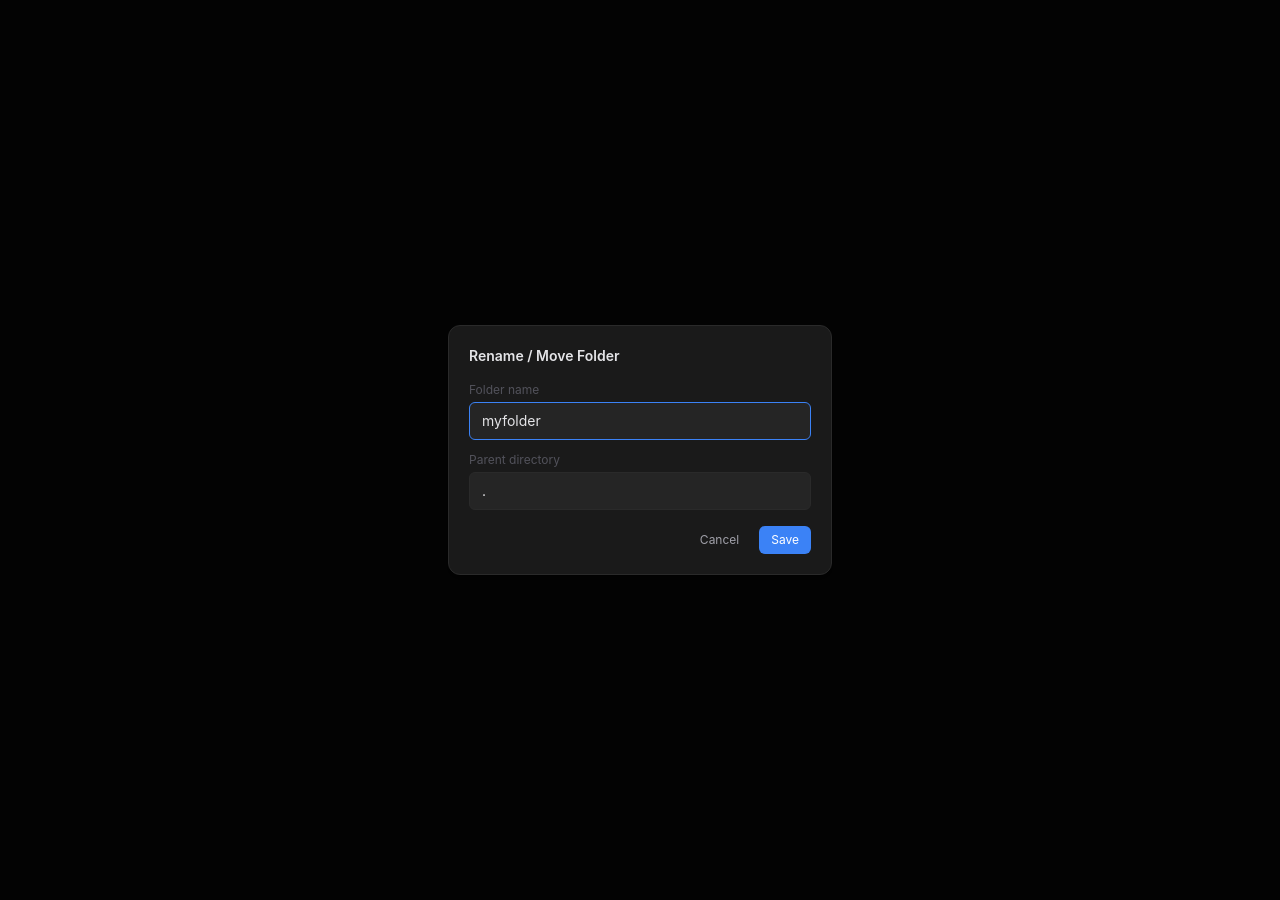
Test case: FolderDialog › shows error message when confirm throws
The width and height of the screenshot is (1280, 900).
What coordinates should you click on to do the following:
click the button "Save"
I would click on:
 (785, 540)
Its box is [759,526,811,554].
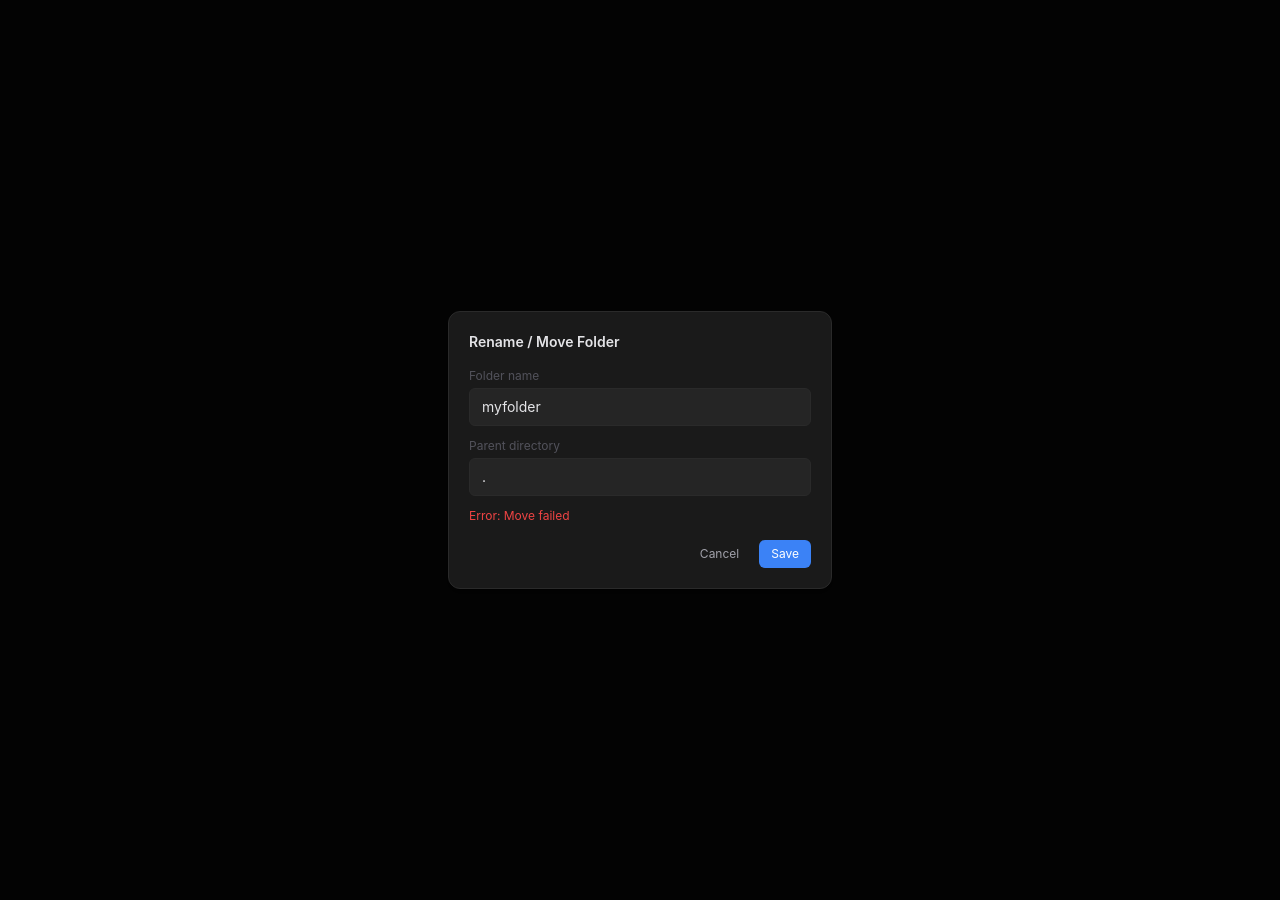
Expected: the text "Error: Move failed" is shown, [469,508,570,523]
